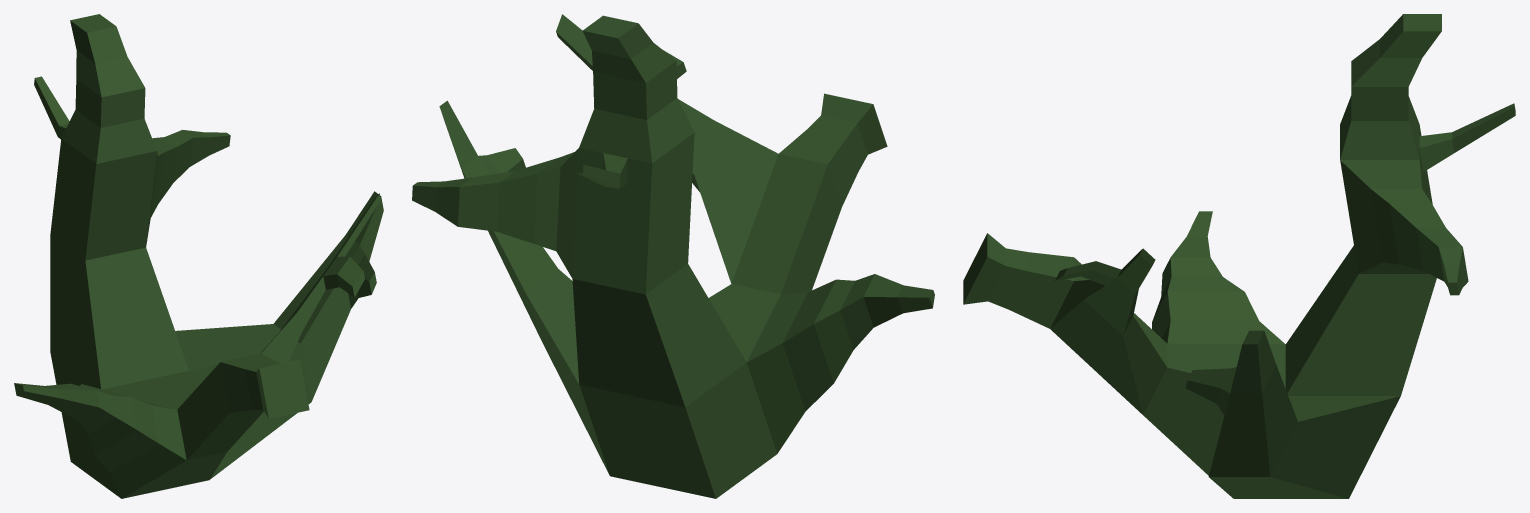
Rendered from sea_plant_big.fbx.
3 renders of one model, left to right at view 1: azimuth 30°, elevation 25°; view 2: azimuth 150°, elevation 25°; view 3: azimuth 270°, elevation 25°, orthographic. The views are drawn at different scales.
Visible parts, largest first — view 1: sea_plant_big; view 2: sea_plant_big; view 3: sea_plant_big.
Part boxes in pixels (box(x1,y1,x2,y2)): sea_plant_big: box(14, 14, 383, 498); sea_plant_big: box(412, 14, 934, 498); sea_plant_big: box(963, 14, 1515, 498).
Bounding box in the file's own units: 321 × 323 × 353.
1 material, 1 textured.
